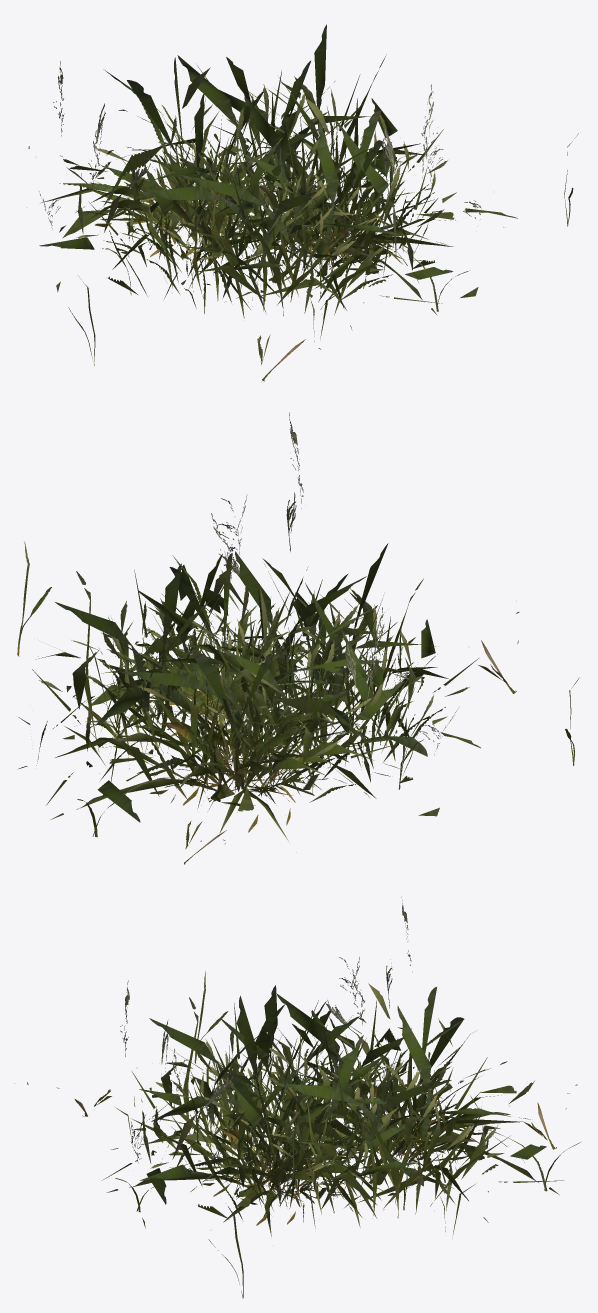
The model's file is veg-grass-meadow-d7e9636404d1.glb.
The picture shows the model from 3 angles, top to bottom: view 1: azimuth 30°, elevation 25°; view 2: azimuth 150°, elevation 25°; view 3: azimuth 270°, elevation 25°; orthographic projection. The views are drawn at different scales.
Parts seen in each view (by area): view 1: veg-grass-meadow; view 2: veg-grass-meadow; view 3: veg-grass-meadow.
Part boxes in pixels (<box>): veg-grass-meadow: <box>28,24,578,381</box>; veg-grass-meadow: <box>17,412,579,864</box>; veg-grass-meadow: <box>14,897,580,1298</box>.
Size of the model in its own units: 0.8736 by 0.38 by 0.8591.
Materials: 1 (1 with a texture image).
